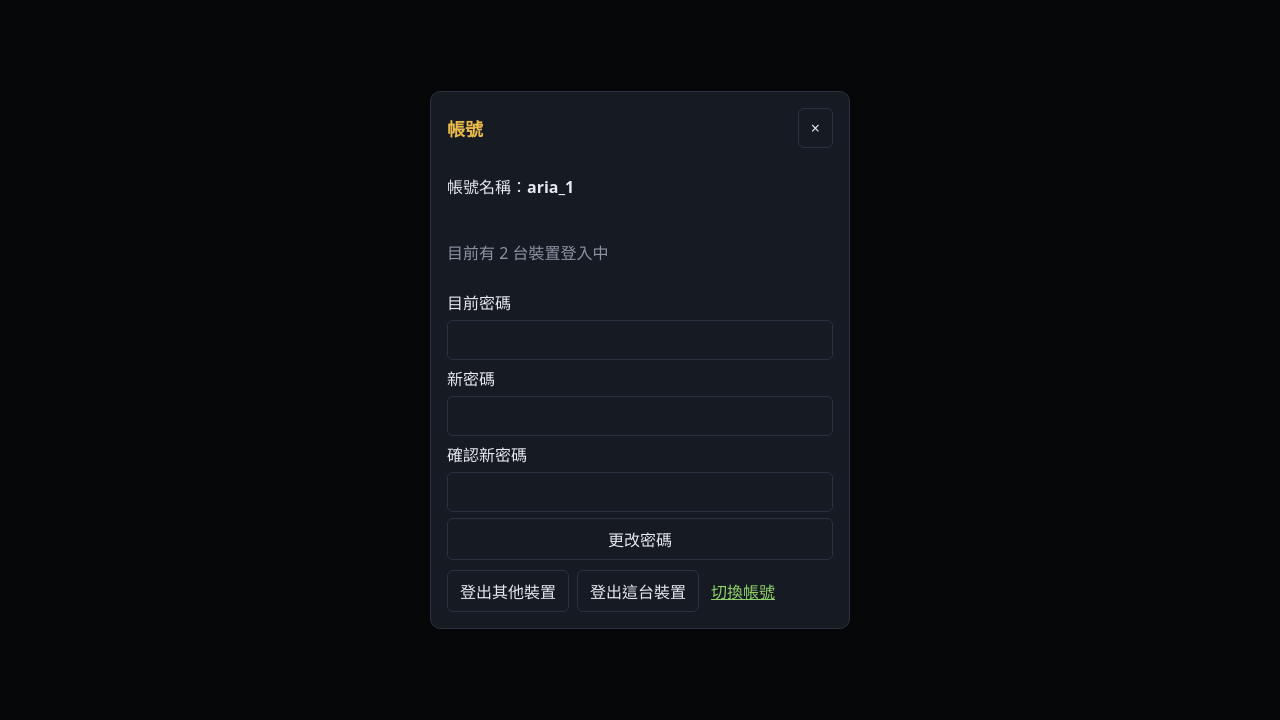
it: AccountDialog (bound) › shows the account and changes the password
Expected: the text "aria_1" is shown, 527,176 -> 574,198
Expected: the text "目前有 2 台裝置登入中" is shown, 447,242 -> 608,264
Type "password1" into the password field labelled "目前密碼" at (640, 340), box 447,320 -> 833,360
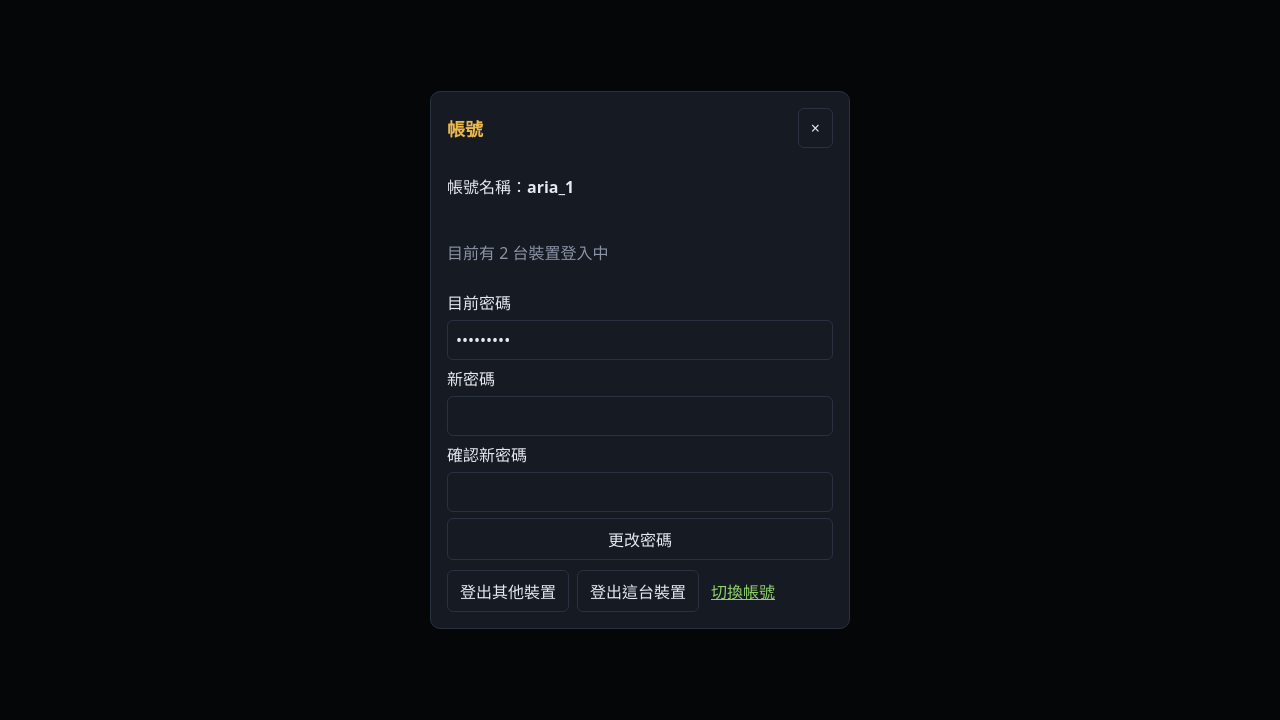
Type "password2" into the password field labelled "新密碼" at (640, 416), box 447,396 -> 833,436
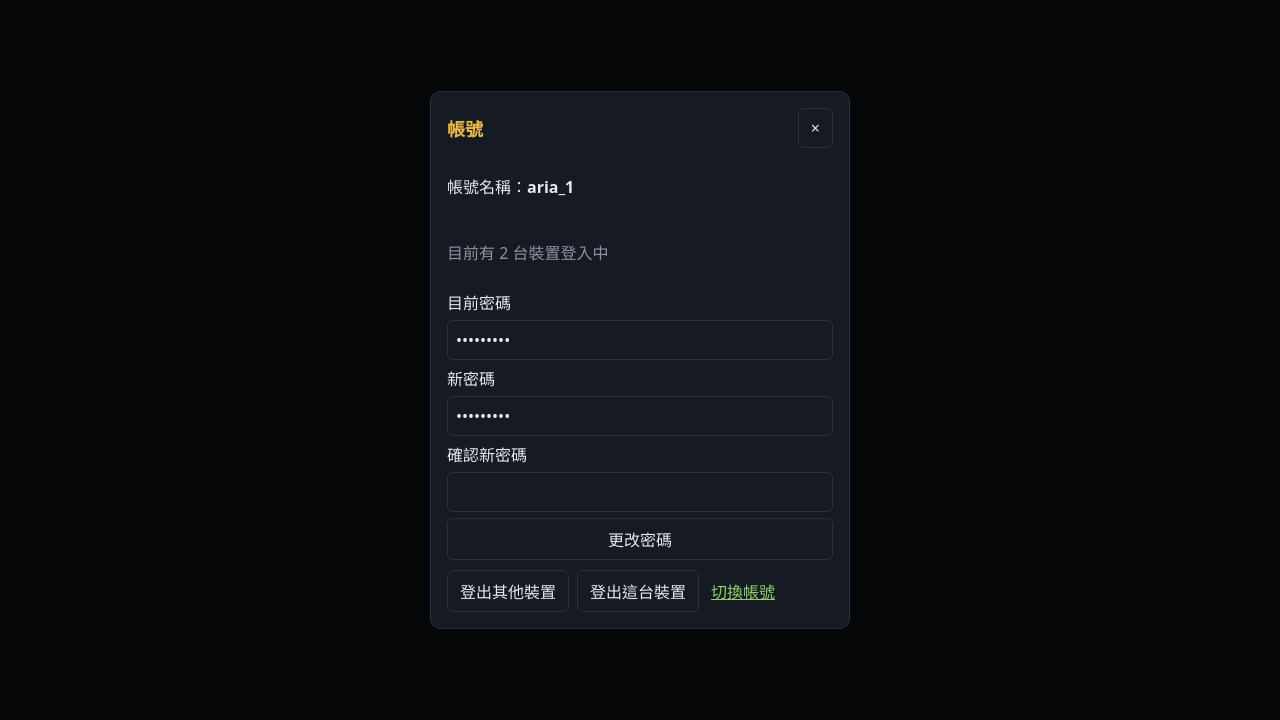
Type "password2" into the password field labelled "確認新密碼" at (640, 492), box 447,472 -> 833,512
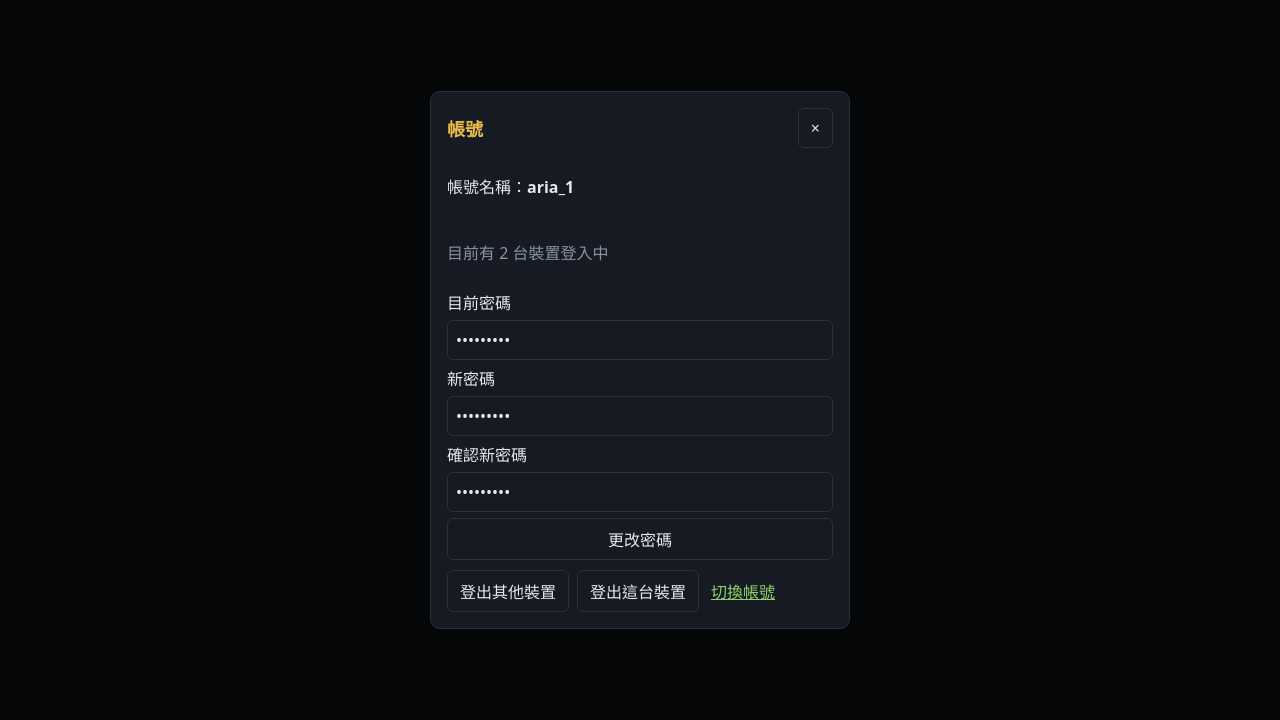
Click the button "更改密碼" at (640, 539), box 447,518 -> 833,560
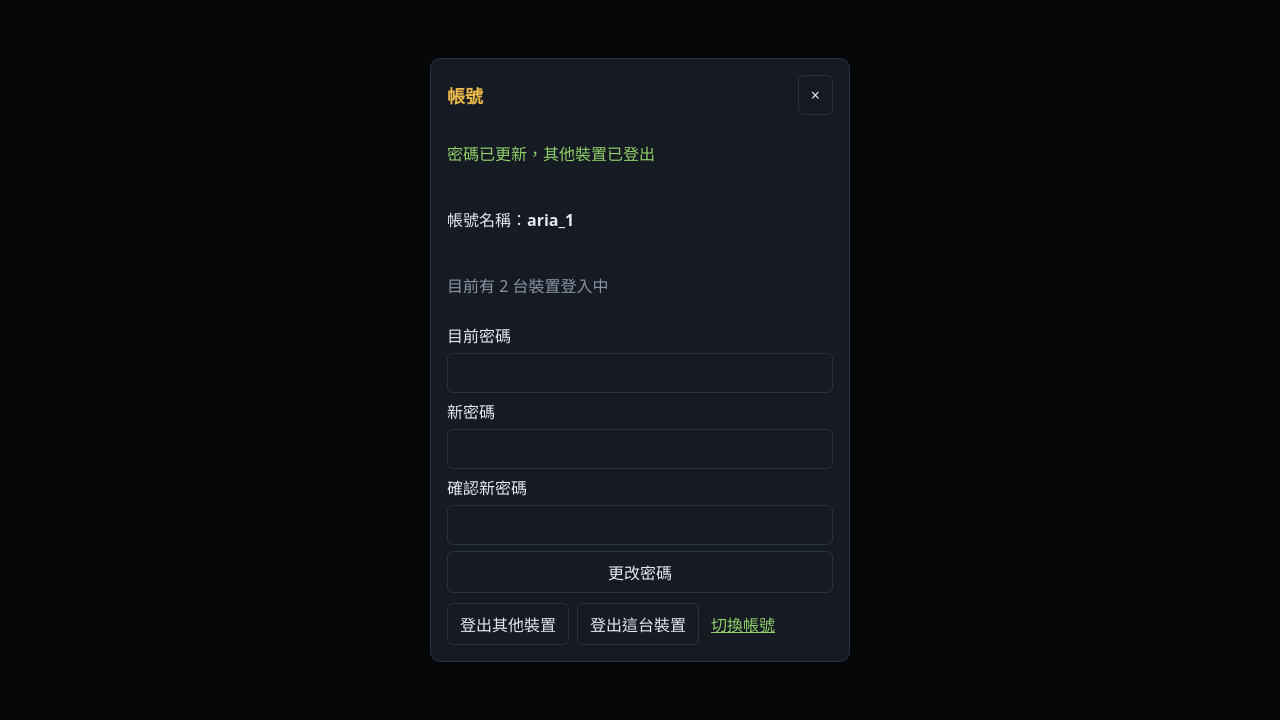
Now the text "密碼已更新，其他裝置已登出" is shown, box 447,143 -> 655,165
